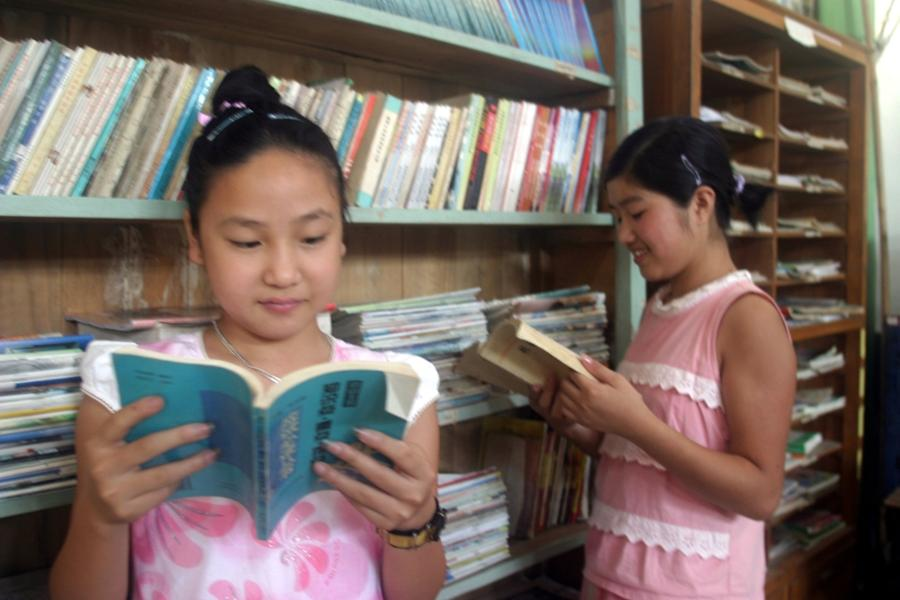person: (527, 119, 803, 600)
